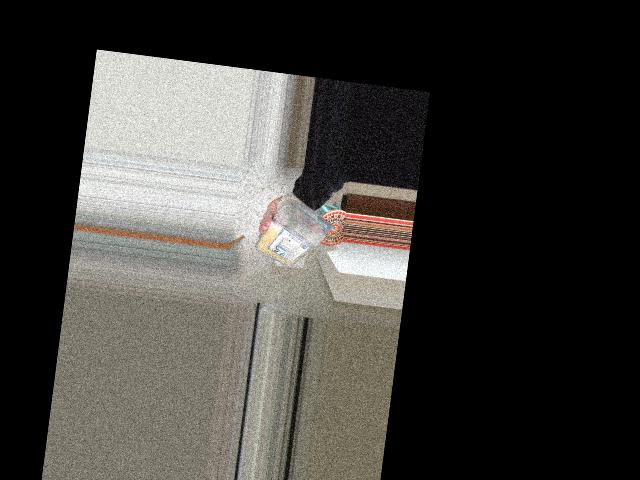cheese: (262, 195, 336, 277)
